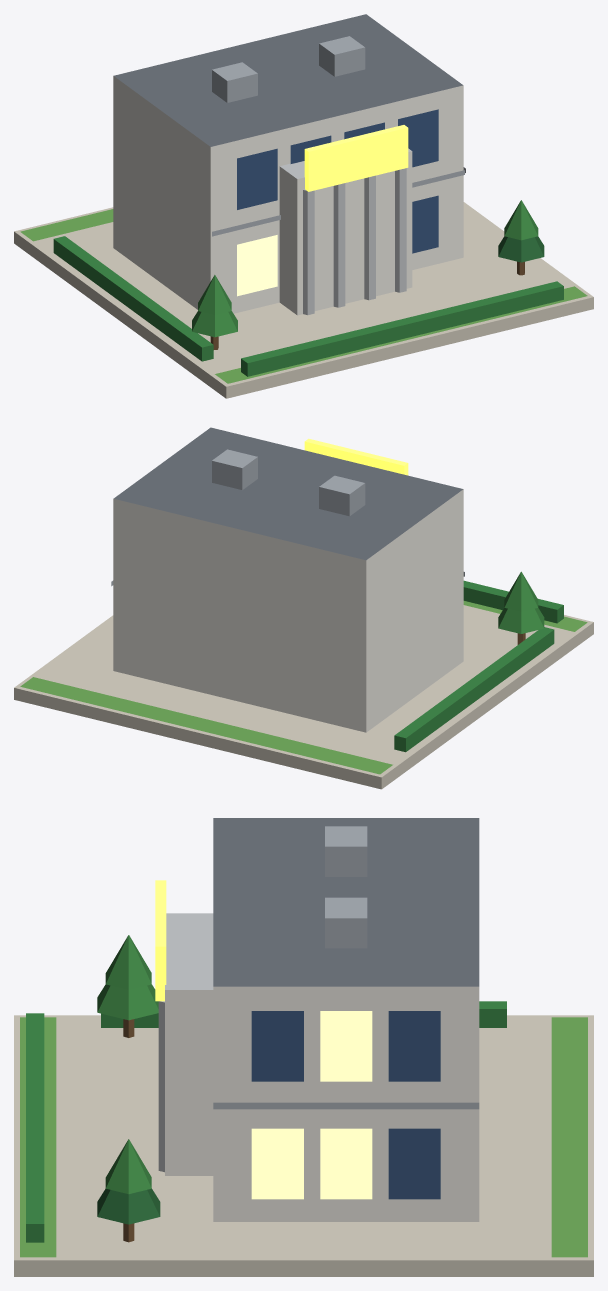
3 views of the same model, one above another, from view 1: azimuth 30°, elevation 25°; view 2: azimuth 150°, elevation 25°; view 3: azimuth 270°, elevation 25° (orthographic). The views are drawn at different scales.
Parts seen in each view (by area): view 1: b17; view 2: b17; view 3: b17.
Part boxes in pixels (<box>): b17: <box>14,14,593,398</box>; b17: <box>14,427,593,789</box>; b17: <box>14,818,593,1276</box>.
Bounding box in the file's own units: 0.96 × 0.515 × 0.96.
